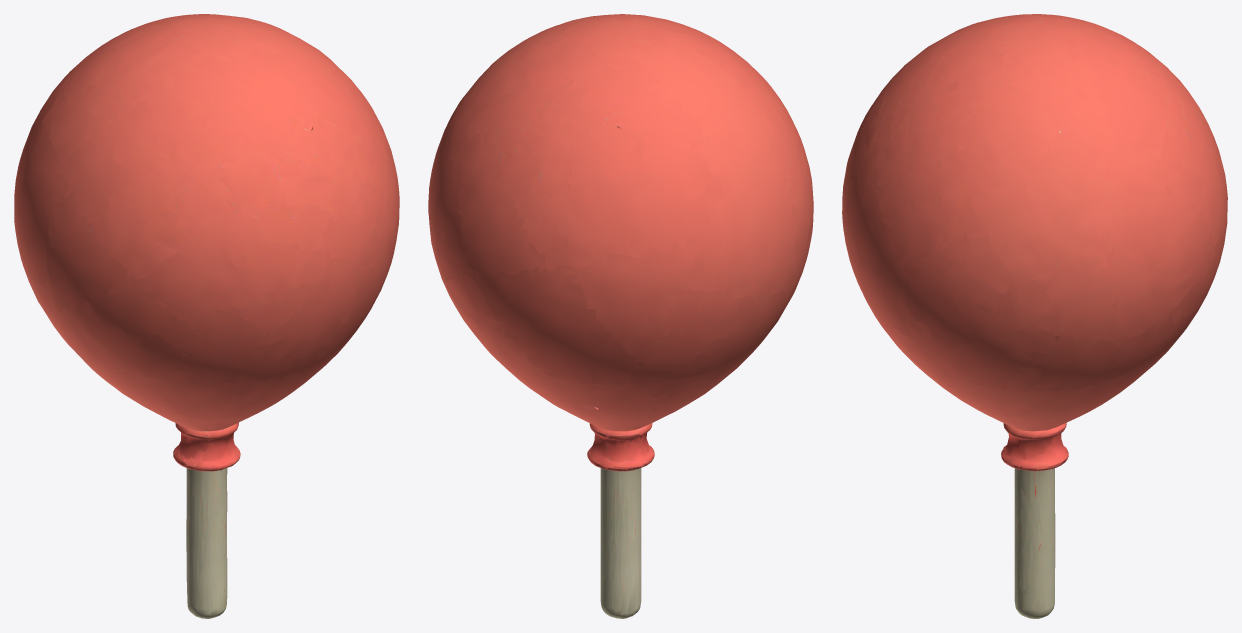
The model's file is upm_mv3pqwyd4b.glb.
3 views of the same model, side by side, from view 1: azimuth 30°, elevation 25°; view 2: azimuth 150°, elevation 25°; view 3: azimuth 270°, elevation 25° (orthographic).
Bounding box in the file's own units: 1.14 × 1.9 × 1.14.
Materials: 1 (1 with a texture image).
